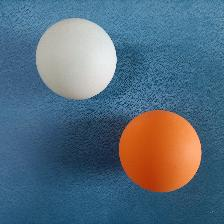WhiteBall: (35, 17, 117, 100)
YellowBall: (118, 108, 202, 193)
